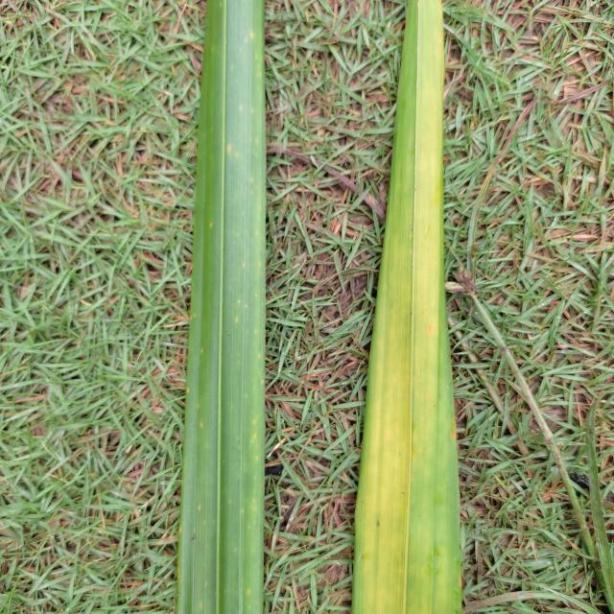nitrogen: (349, 0, 462, 614), (176, 0, 264, 614)
